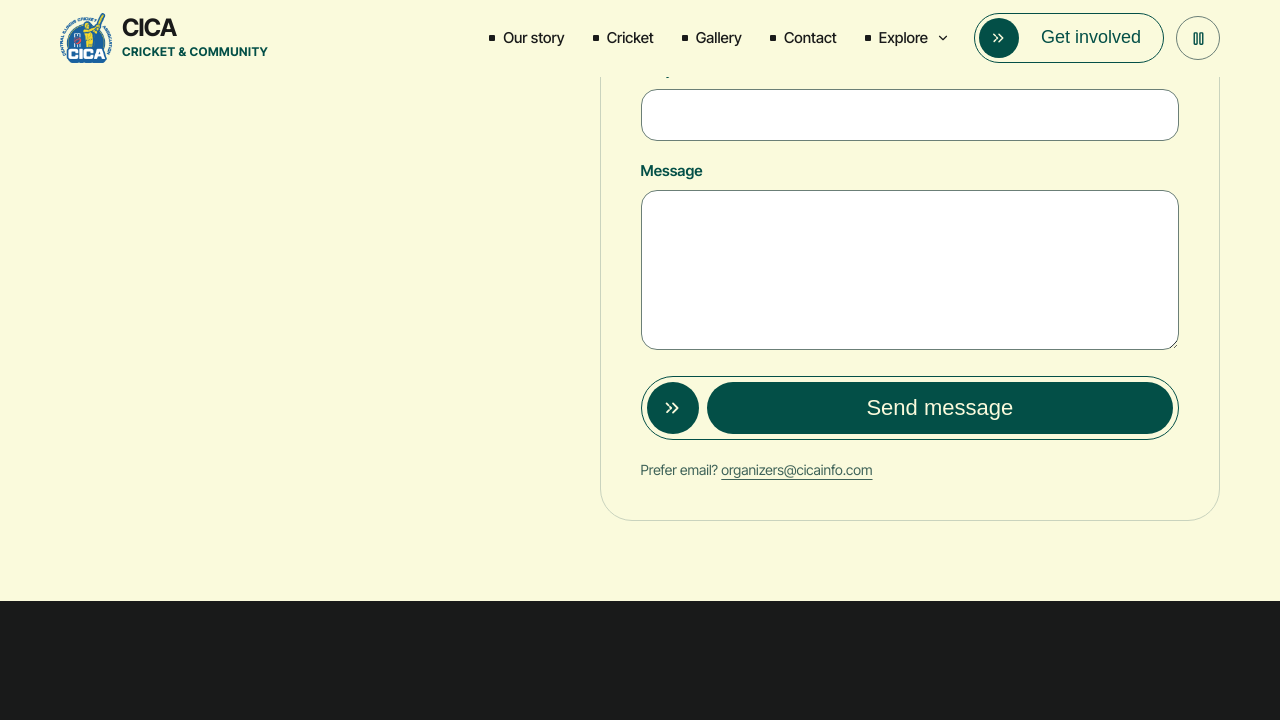
Test case: Contact Form › should show validation errors for empty fields
(page scrolled)
Click the button "Send message" at (910, 408), box [641, 376, 1179, 440]
(page scrolled)
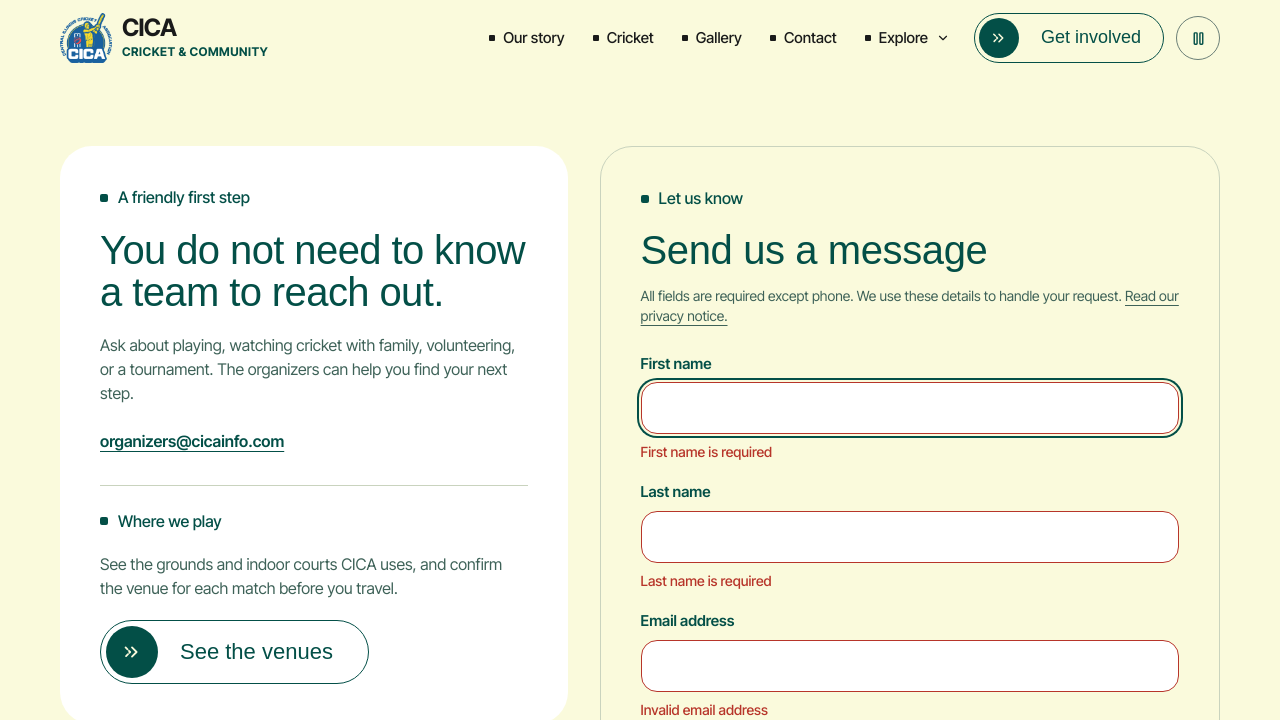
Expected: the text "First name is required" is shown, [641, 444, 772, 460]
Expected: the text "Last name is required" is shown, [641, 572, 772, 589]
Expected: the text "Invalid email address" is shown, [641, 701, 768, 718]
